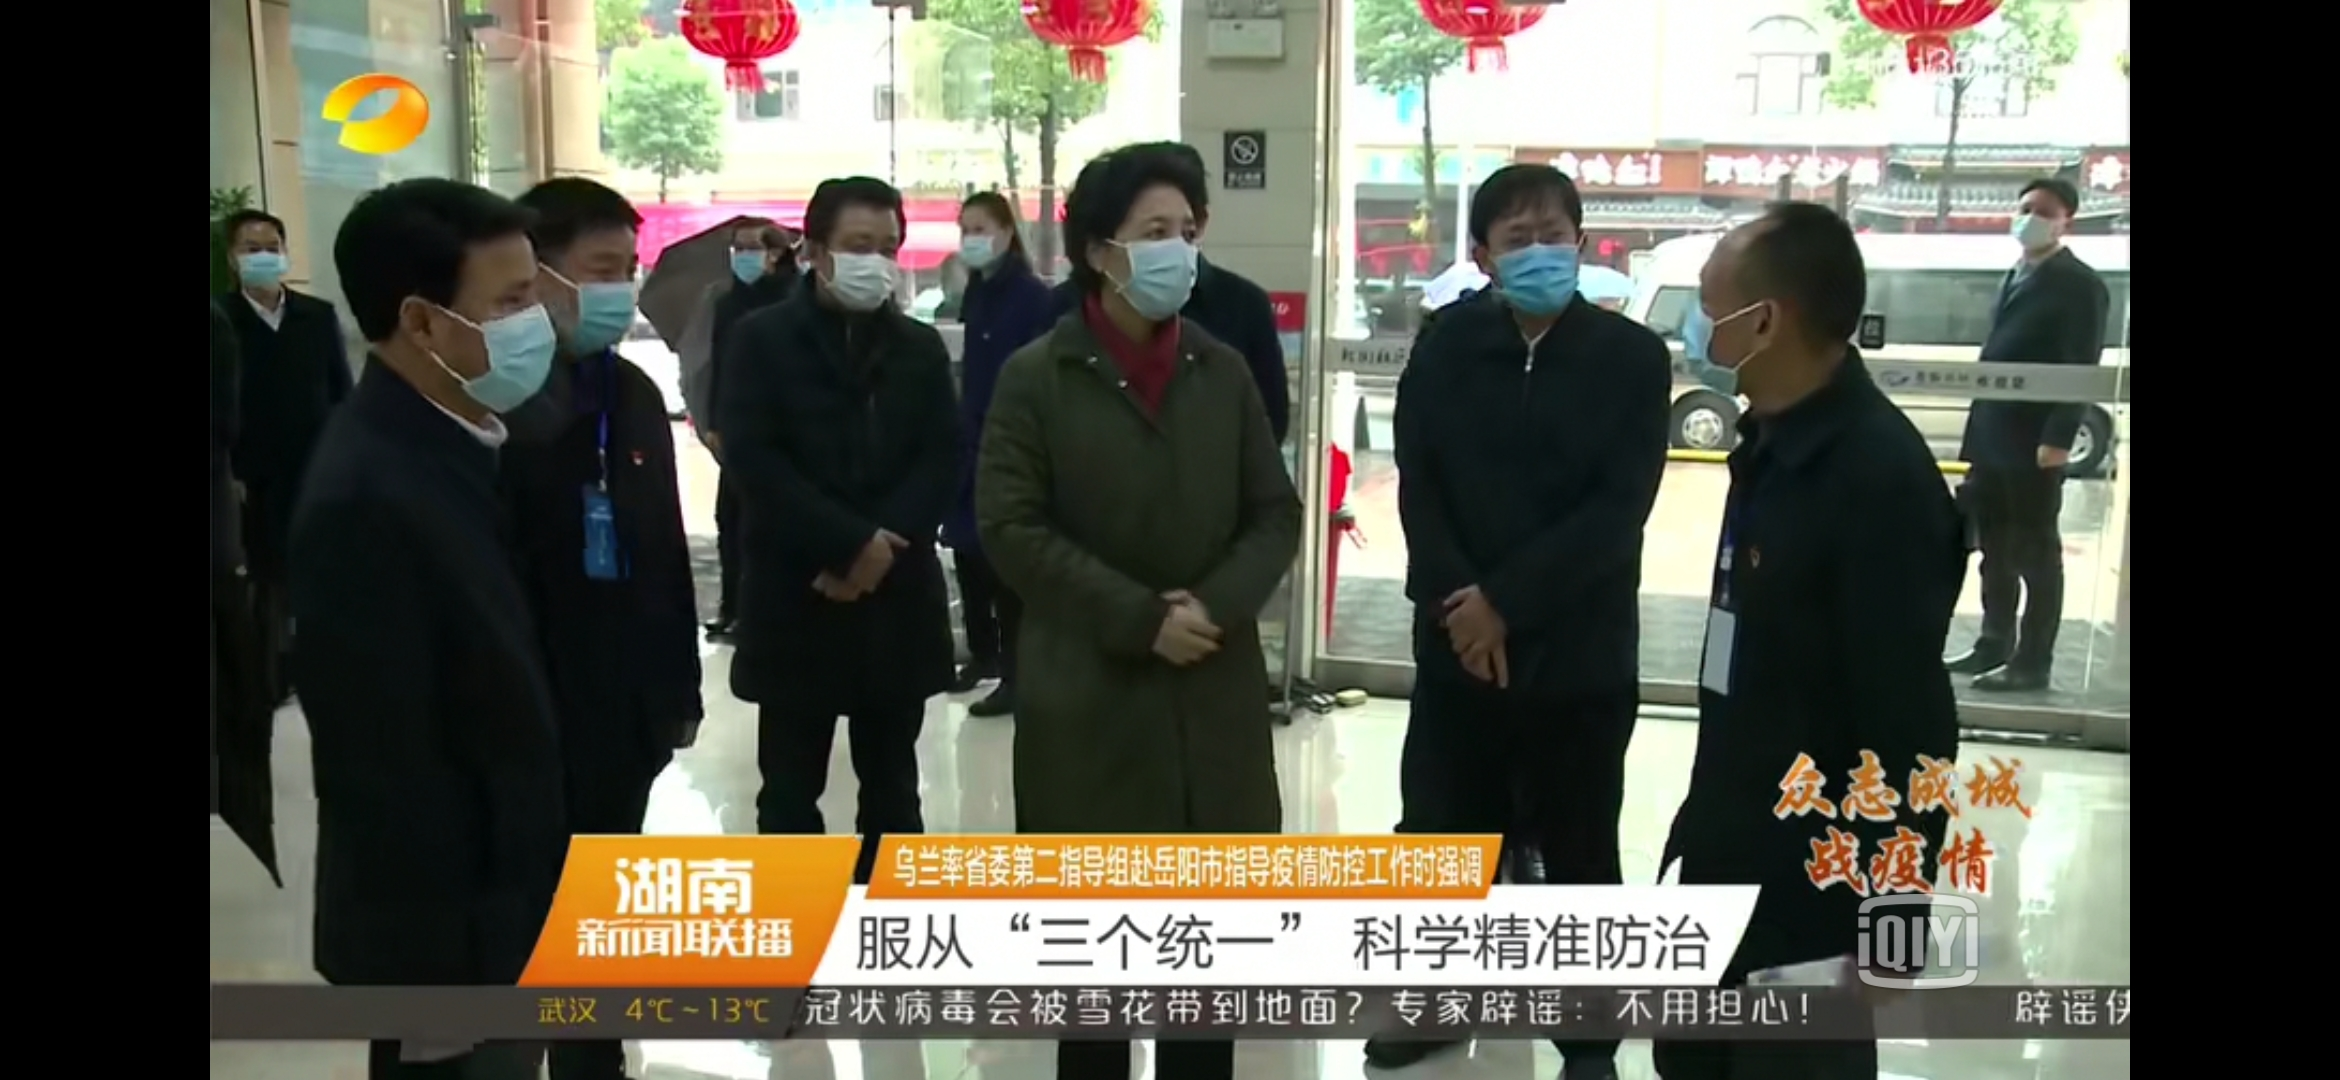correctlyWear: (398, 264, 561, 412), (1086, 197, 1204, 321), (1683, 257, 1780, 400), (1468, 210, 1592, 318), (554, 239, 645, 360), (812, 219, 907, 315), (222, 234, 288, 300), (2012, 195, 2083, 255), (952, 210, 1016, 271), (730, 234, 782, 283)
